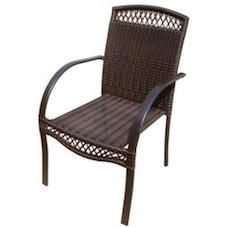chair: (27, 2, 209, 224)
